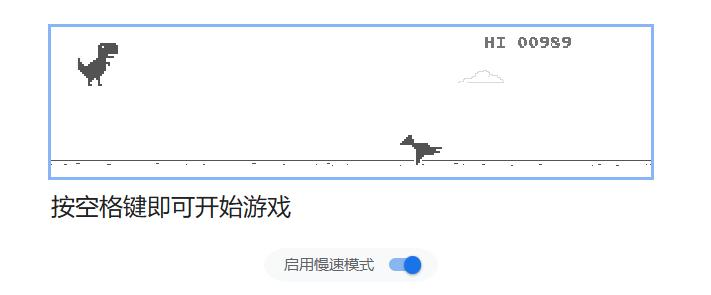bird: (400, 135, 443, 166)
dino: (75, 41, 118, 87)
